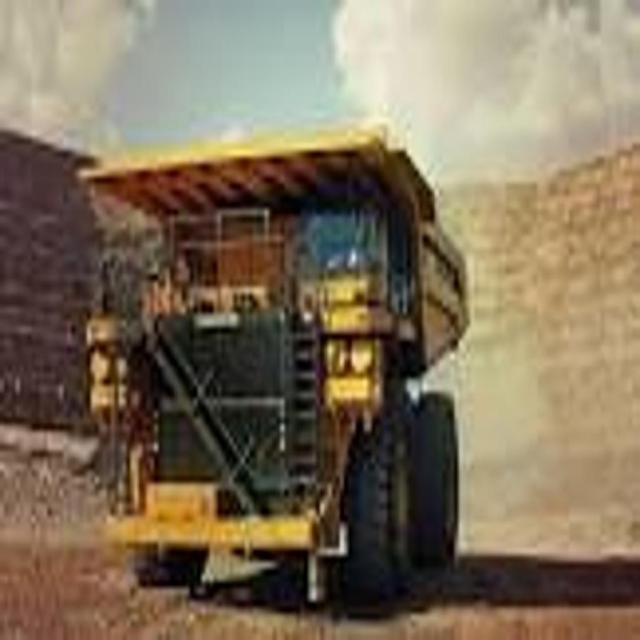dump_truck: (85, 127, 468, 616)
